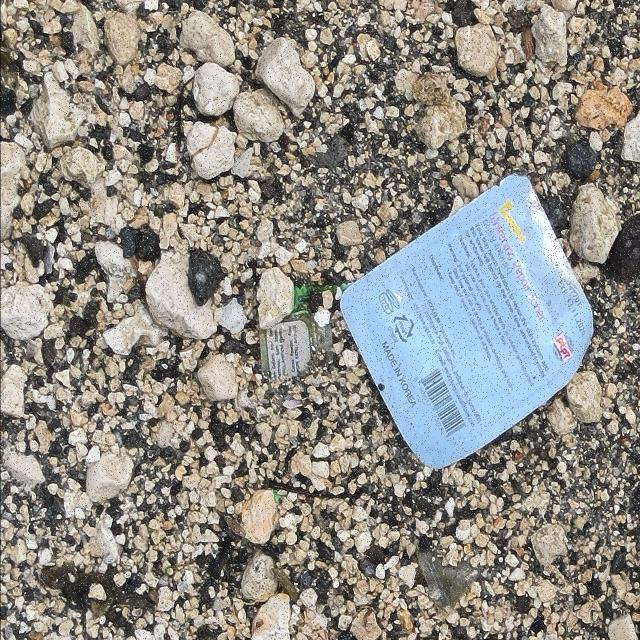plastic_waste: (340, 174, 596, 472)
